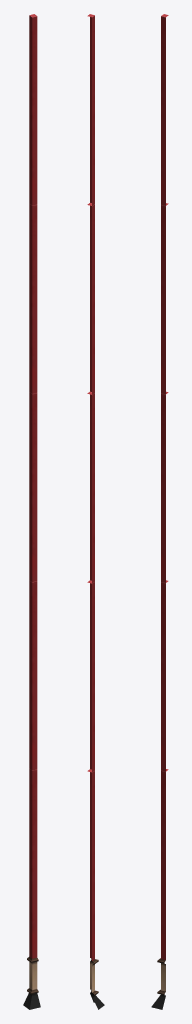
The model's file is em_wall_corner_minotaur_hallway.fbx.
3 views of the same model, side by side, from view 1: azimuth 30°, elevation 25°; view 2: azimuth 150°, elevation 25°; view 3: azimuth 330°, elevation 25° (orthographic).
Parts seen in each view (by area): view 1: group78_em_wall_hallway_corner_4; view 2: group78_em_wall_hallway_corner_4; view 3: group78_em_wall_hallway_corner_4.
Part boxes in pixels (bbox=[...]): group78_em_wall_hallway_corner_4: bbox=[23, 14, 40, 1009]; group78_em_wall_hallway_corner_4: bbox=[87, 14, 104, 1009]; group78_em_wall_hallway_corner_4: bbox=[151, 14, 168, 1009].
Bounding box in the file's own units: 100 × 8400 × 100.
